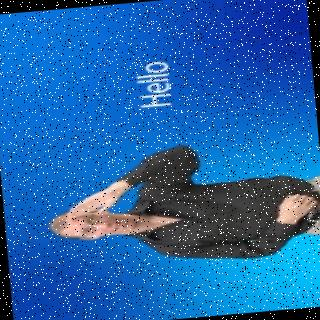Hello: (38, 132, 320, 274)
